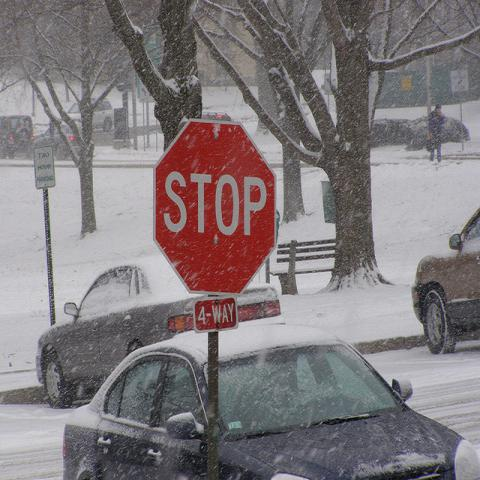car: (63, 320, 479, 474), (35, 252, 283, 405), (410, 207, 480, 354), (28, 120, 81, 162), (67, 98, 114, 138), (0, 114, 35, 158), (368, 114, 407, 146)
